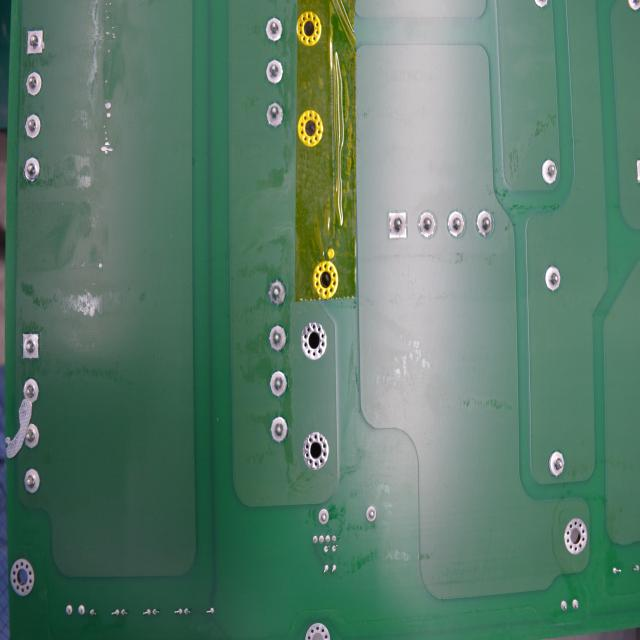spillover: (106, 26, 118, 40), (102, 100, 113, 112), (102, 142, 113, 154), (98, 258, 103, 272)
